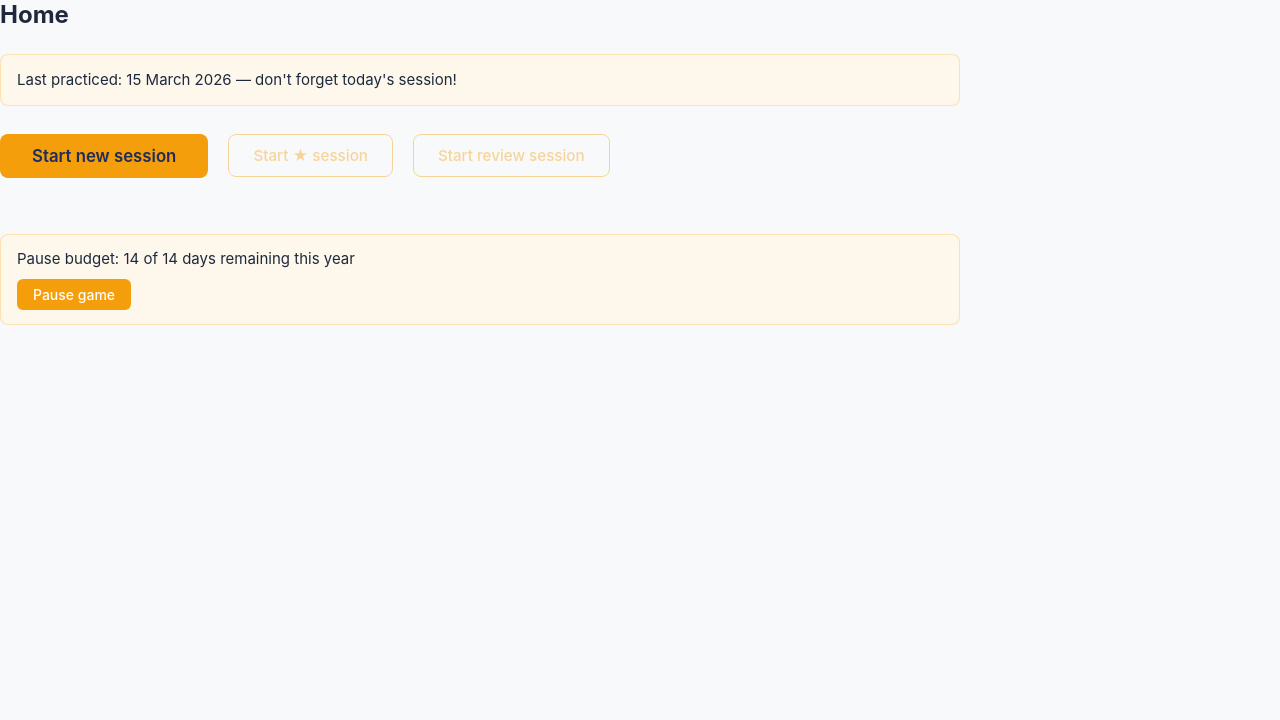
Test: HomeScreen — pause mode › opens the confirm dialog when the pause button is clicked
The width and height of the screenshot is (1280, 720).
Click the button "Pause game": (74, 294) [17,279,131,310]
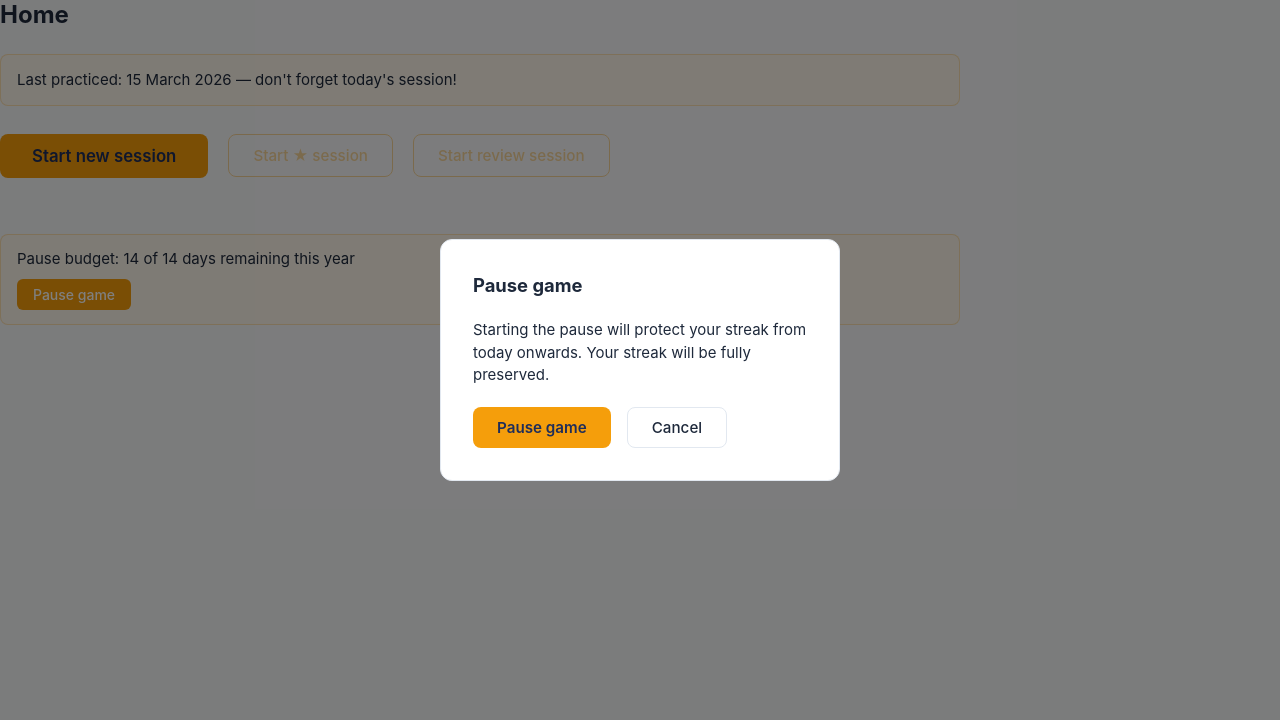
Expected: the dialog is shown, [440,238,840,481]
